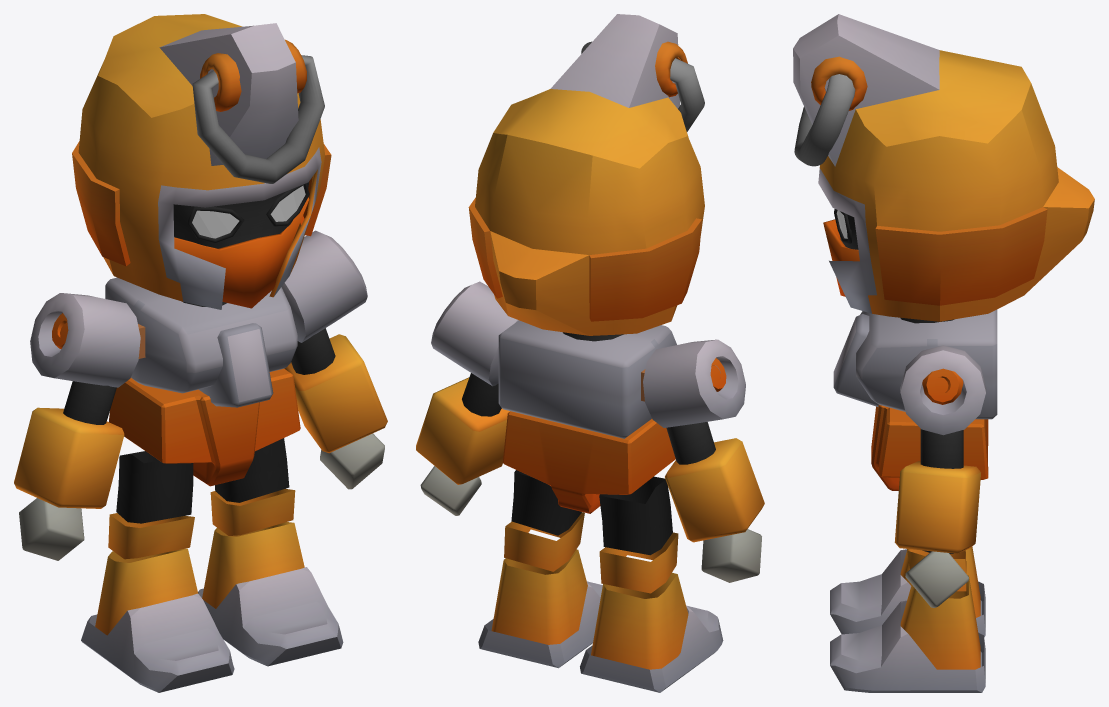
Rendered from robot2.fbx.
3 renders of one model, left to right at view 1: azimuth 30°, elevation 25°; view 2: azimuth 150°, elevation 25°; view 3: azimuth 270°, elevation 25°, orthographic. The views are drawn at different scales.
Visible parts, largest first — view 1: Circle.010, Cube, Cube.034, Cube.033, Cube.029, Circle.021, Cube.008, Cube.005, Circle.022, Plane.001, Cube.032, Cube.026 (+11 smaller); view 2: Circle.010, Cube, Cube.034, Circle.021, Cube.008, Cube.032, Cube.026, Cube.005, Circle.022, Cube.027, Cube.033, Cube.029 (+9 smaller); view 3: Circle.010, Cube, Cube.029, Cube.005, Circle.022, Cube.026, Cube.034, Cube.033, Plane.001, Cube.002, Circle.018, Circle.011 (+2 smaller).
Boxes of the visible parts, box(x1,y1,x2,y2) form: Circle.010: box(72, 14, 331, 309); Cube: box(105, 277, 297, 407); Cube.034: box(109, 368, 300, 486); Cube.033: box(81, 593, 234, 692); Cube.029: box(198, 567, 343, 666); Circle.021: box(30, 293, 140, 387); Cube.008: box(14, 407, 124, 508); Cube.005: box(284, 334, 387, 453); Circle.022: box(281, 230, 367, 342); Plane.001: box(192, 55, 324, 183); Cube.032: box(95, 548, 198, 635); Cube.026: box(202, 522, 304, 608); Circle.010: box(468, 14, 704, 335); Cube: box(498, 320, 676, 438); Cube.034: box(503, 411, 675, 513); Circle.021: box(643, 339, 745, 427); Cube.008: box(665, 438, 764, 542); Cube.032: box(591, 572, 688, 669); Cube.026: box(491, 549, 587, 644); Cube.005: box(416, 377, 509, 484); Circle.022: box(431, 281, 518, 386); Cube.027: box(599, 476, 672, 555); Cube.033: box(580, 605, 723, 692); Cube.029: box(478, 581, 602, 668); Circle.010: box(793, 14, 1094, 321); Cube: box(833, 309, 997, 419); Cube.029: box(830, 600, 985, 692); Cube.005: box(894, 461, 980, 553); Circle.022: box(900, 345, 986, 435); Cube.026: box(900, 575, 980, 669); Cube.034: box(871, 405, 988, 490); Cube.033: box(830, 549, 985, 636); Plane.001: box(794, 74, 855, 166); Cube.002: box(905, 551, 968, 607); Circle.018: box(920, 429, 963, 468); Circle.011: box(811, 56, 867, 110).
Size of the model in its own units: 72.33 by 124 by 54.28.
